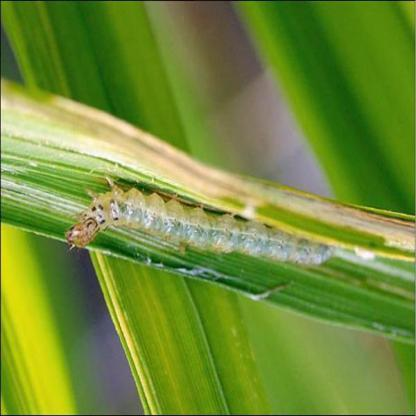leaf-folder: (55, 160, 338, 291)
